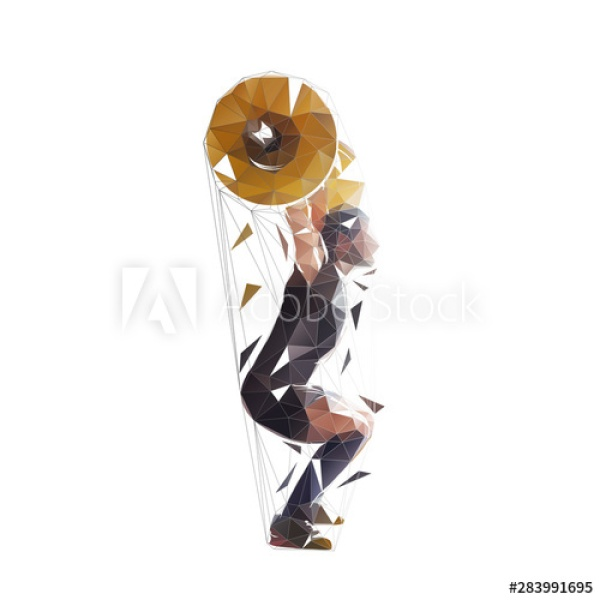barbell: (196, 69, 353, 215)
